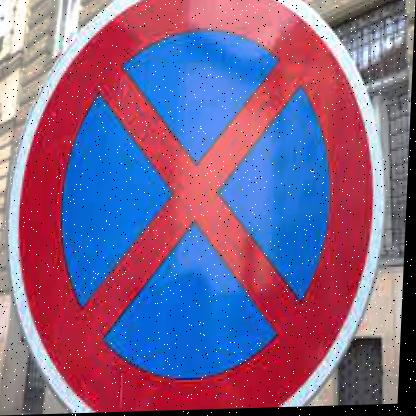No stopping: (6, 0, 392, 416)
